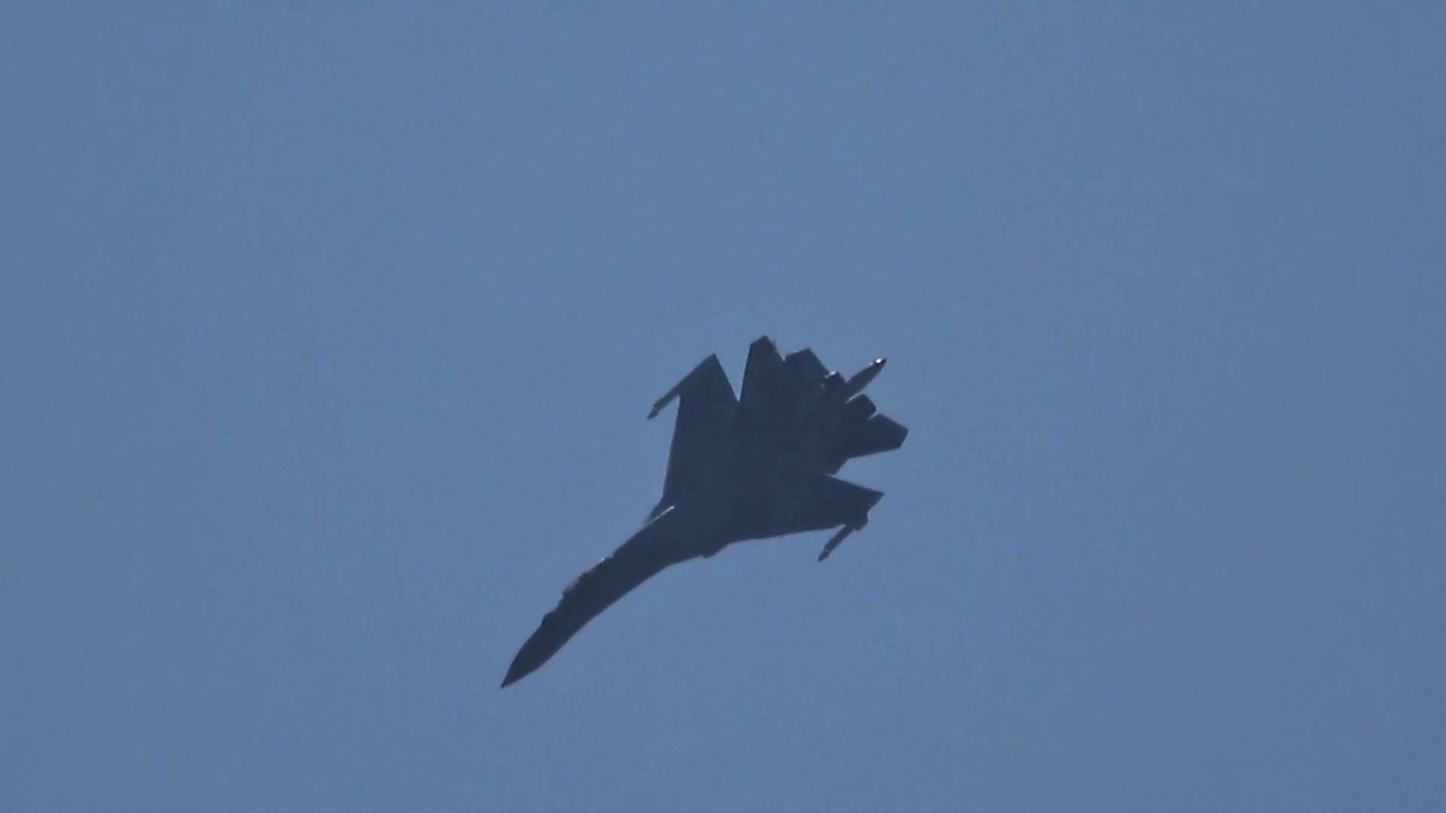Su35: (501, 336, 909, 689)
